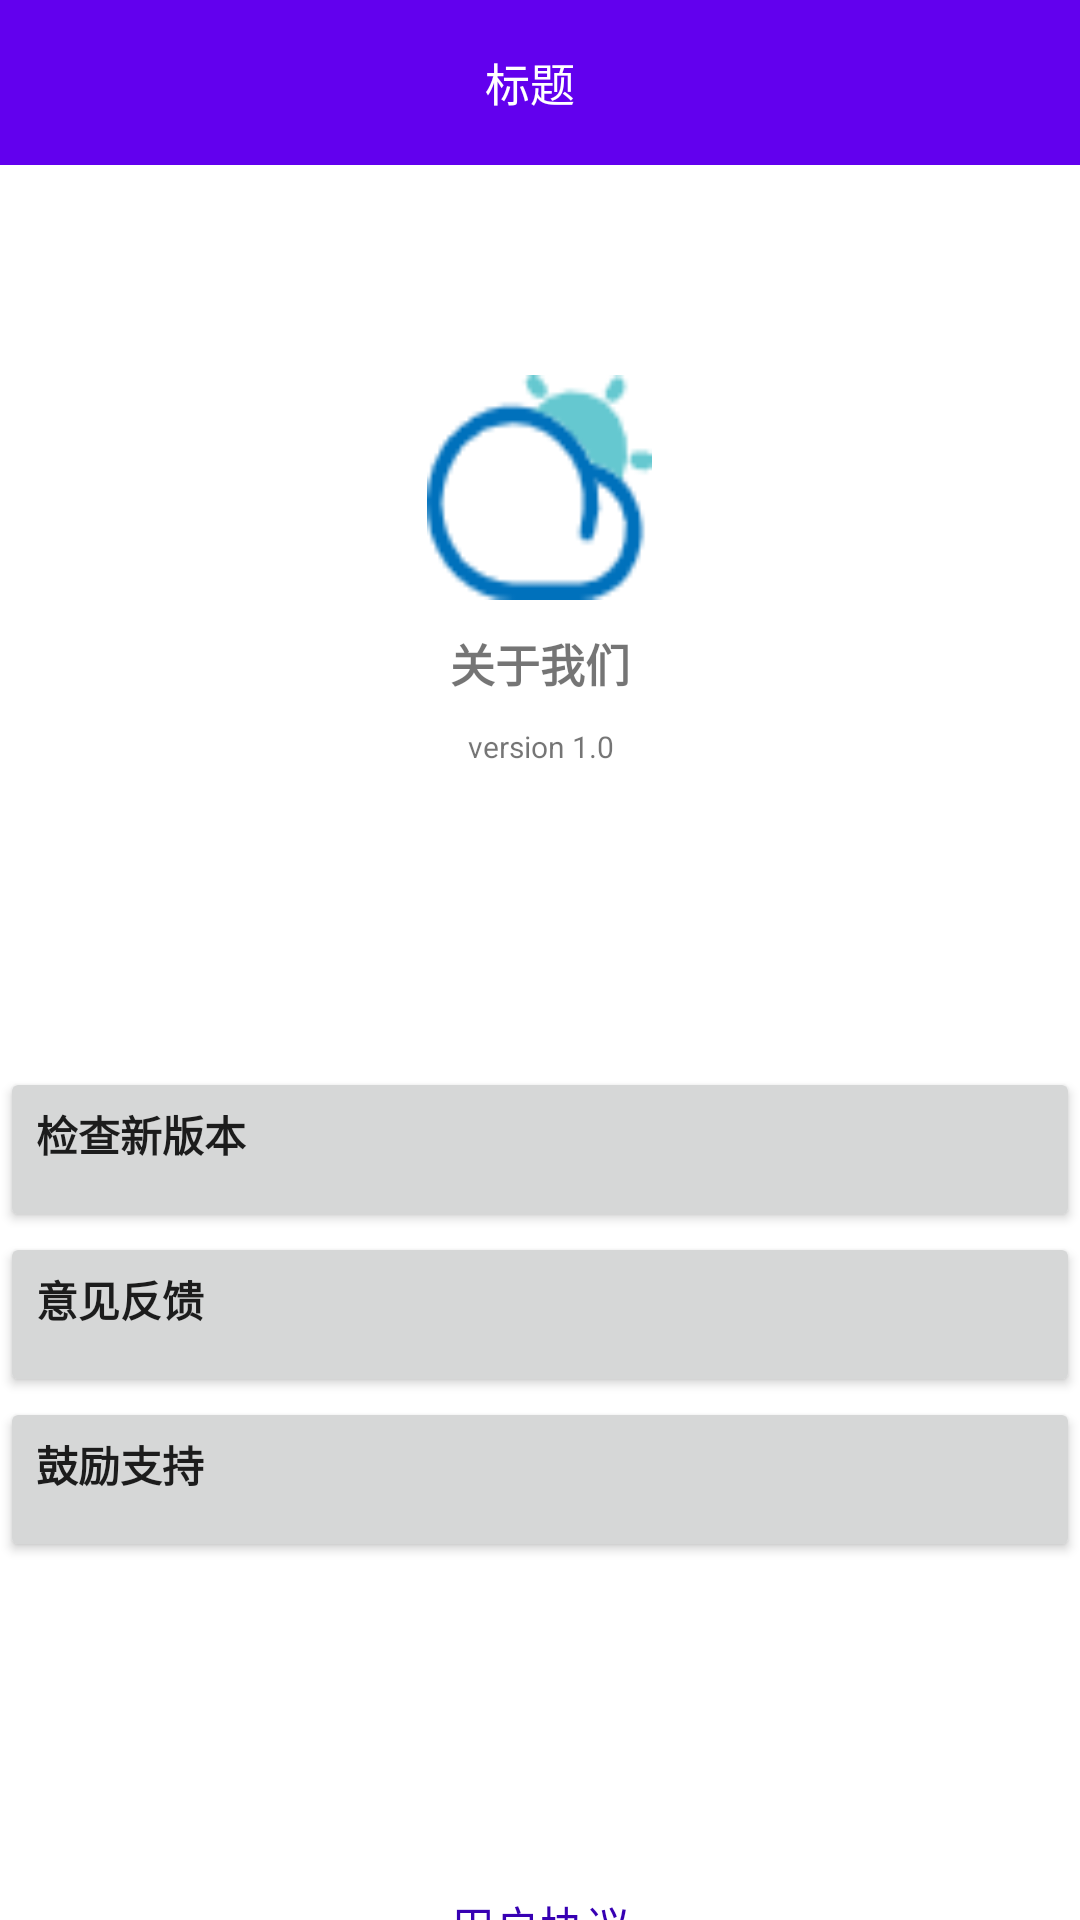

Icon click points for this 1080x1920 phone screenshot, format [x,y]:
weather: [539,487]
